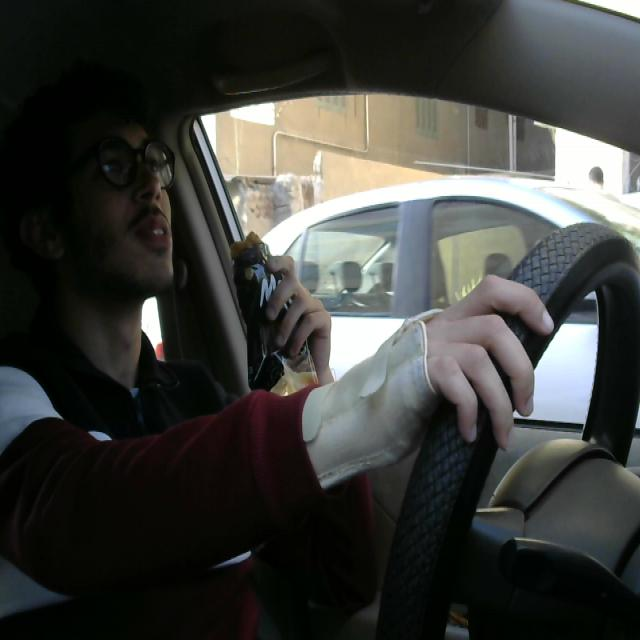eating: (225, 225, 325, 441), (324, 440, 326, 446)
